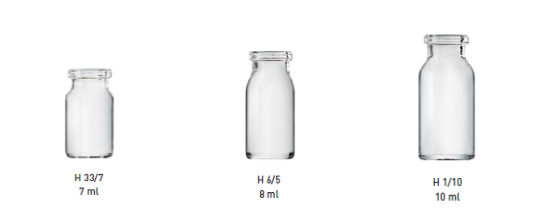glass_bottle: (412, 30, 486, 170), (238, 45, 300, 166), (55, 62, 122, 164)
